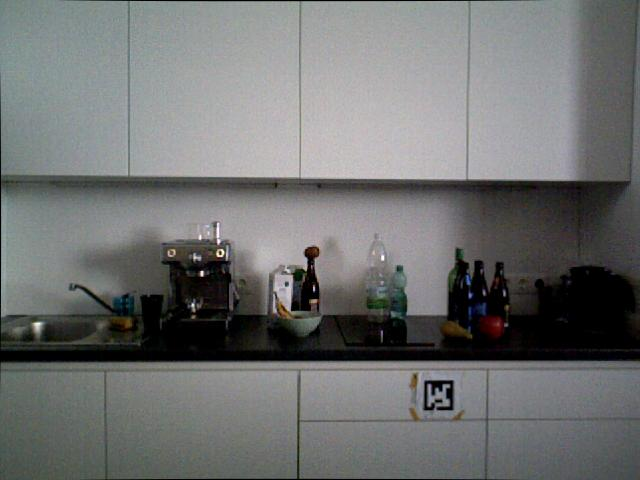bench: (365, 232, 390, 323), (267, 262, 294, 328), (453, 258, 474, 331), (447, 246, 466, 321), (470, 259, 489, 334), (287, 262, 310, 323), (490, 261, 510, 328), (301, 256, 320, 312), (389, 264, 407, 318)
bicycle: (481, 313, 506, 341)
bird: (274, 310, 322, 337)
couch: (0, 313, 103, 345)
handbag: (140, 293, 163, 332), (182, 221, 217, 245), (111, 293, 136, 325)
motorcycle: (269, 291, 311, 322)
